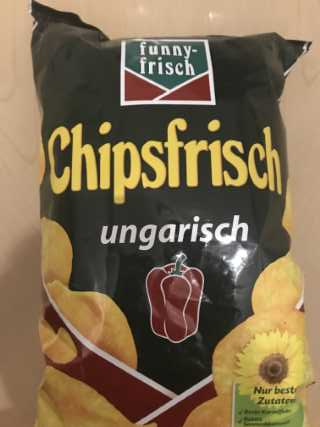chipsfrisch: (29, 1, 311, 427)
